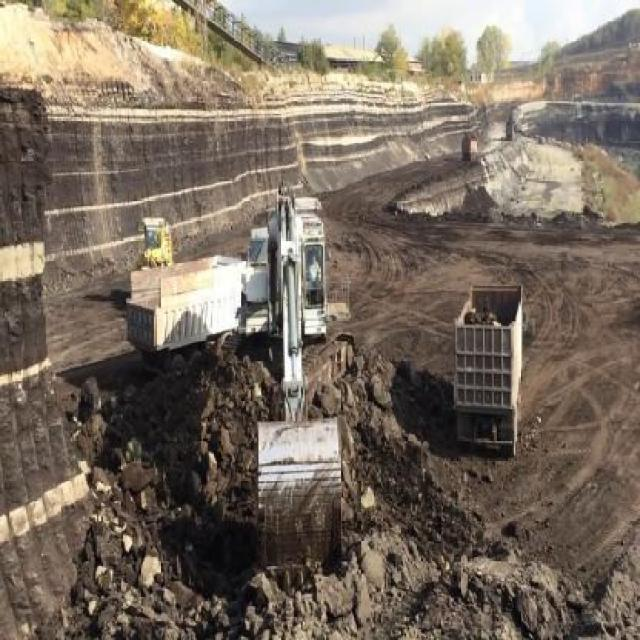dump_truck: (122, 247, 248, 361), (451, 277, 526, 455)
excavator: (239, 182, 353, 569)
